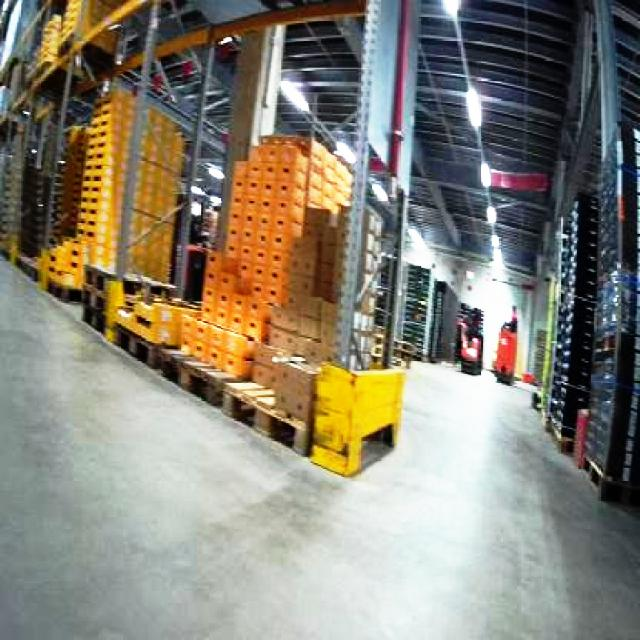ground: (0, 238, 638, 638)
pallet: (78, 262, 406, 477), (543, 0, 638, 518), (175, 132, 354, 380), (72, 88, 186, 289), (580, 131, 638, 509), (308, 360, 405, 477)
